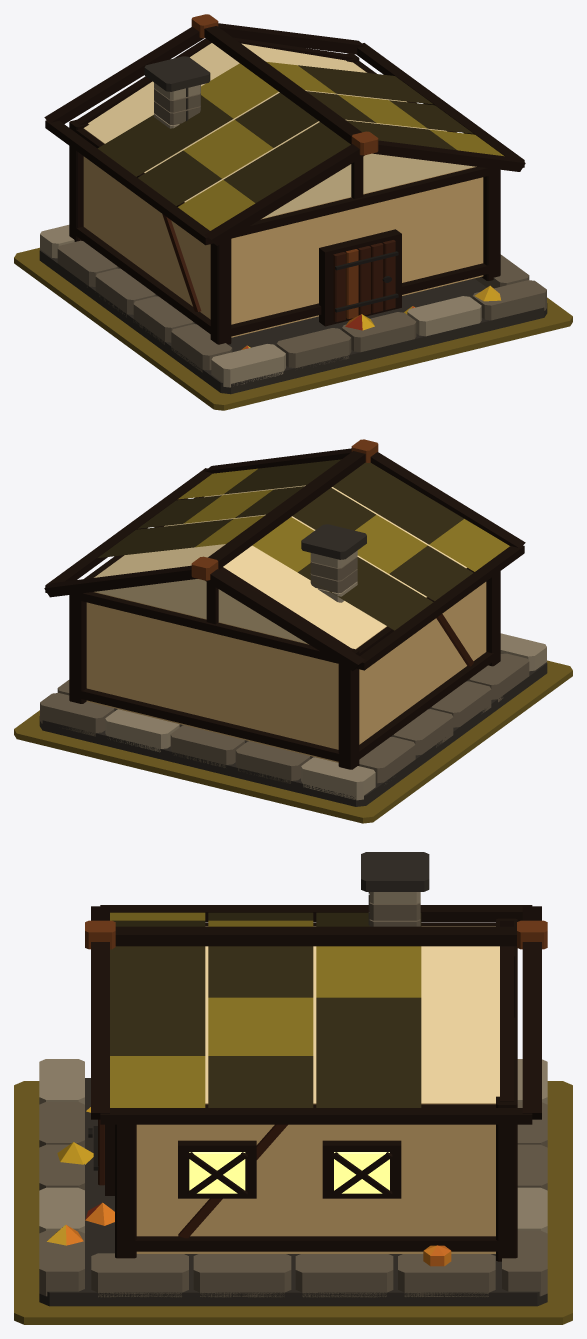
Rendered from longhouse_t2.glb.
The picture shows the model from 3 angles, top to bottom: view 1: azimuth 30°, elevation 25°; view 2: azimuth 150°, elevation 25°; view 3: azimuth 270°, elevation 25°; orthographic projection. The views are drawn at different scales.
Visible parts, largest first — view 1: MMR | longhouse | T02 Architecture.001, MMR | longhouse | Tier 02 Ground.001, MMR | longhouse | T02 Autumn Dressing.001; view 2: MMR | longhouse | T02 Architecture.001, MMR | longhouse | Tier 02 Ground.001; view 3: MMR | longhouse | T02 Architecture.001, MMR | longhouse | Tier 02 Ground.001, MMR | longhouse | T02 Autumn Dressing.001.
Part boxes in pixels (x1,y1,x2,y2): MMR | longhouse | T02 Architecture.001: (39,14,547,394); MMR | longhouse | Tier 02 Ground.001: (14,247,572,410); MMR | longhouse | T02 Autumn Dressing.001: (241,285,501,349); MMR | longhouse | T02 Architecture.001: (39,439,547,806); MMR | longhouse | Tier 02 Ground.001: (14,660,572,823); MMR | longhouse | T02 Architecture.001: (39,852,547,1306); MMR | longhouse | Tier 02 Ground.001: (14,1081,572,1324); MMR | longhouse | T02 Autumn Dressing.001: (47,1107,451,1266).
Size of the model in its own units: 3.3 by 1.88 by 3.3.
Materials: 2 (1 with a texture image).
